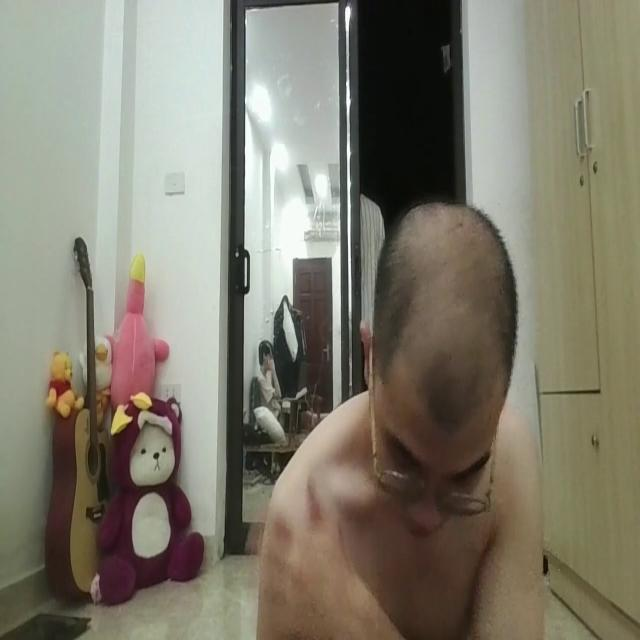extra_person: (242, 335, 320, 456), (350, 156, 392, 343)
student: (250, 184, 555, 640)
